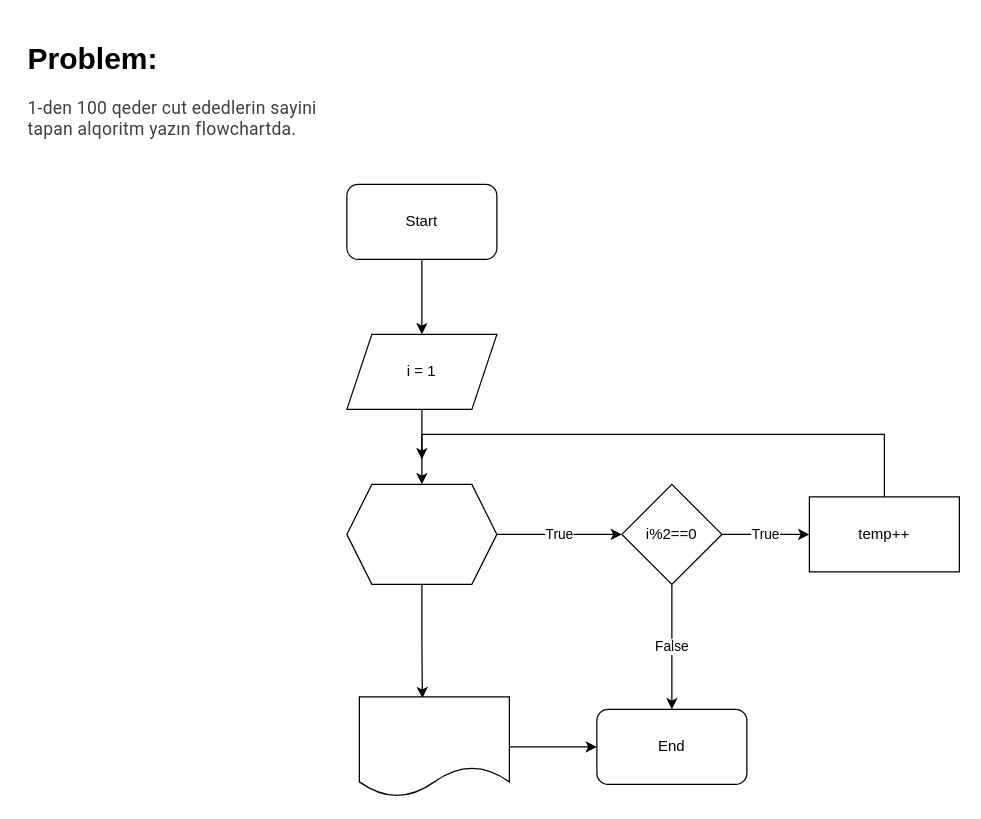
Some shapes in this 981 by 819 pixel diagram are drawn without their labels. Here are the shapes that lost their labels. From the top down, the centre of each, then its label:
At (421,533): "i = 1;i <=100 ;i++".
At (433,746): "print(temp)".
